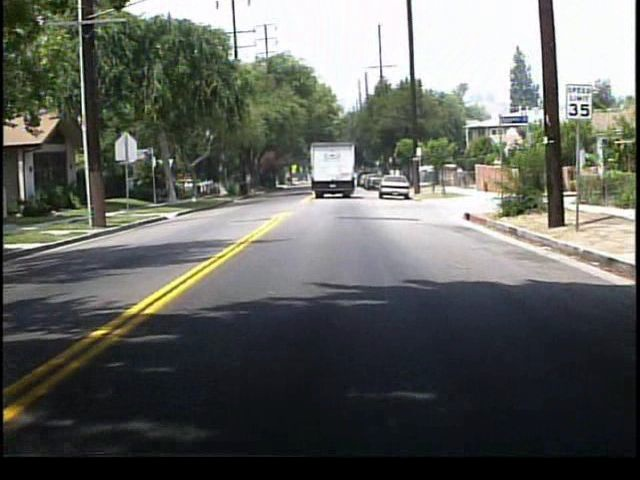person: (454, 164, 465, 189)
